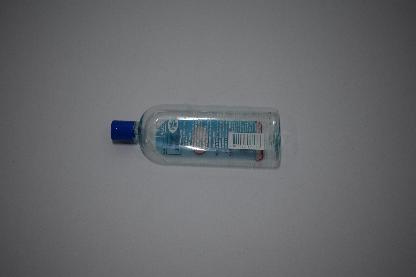Plastic Bottle: (111, 104, 281, 167)
